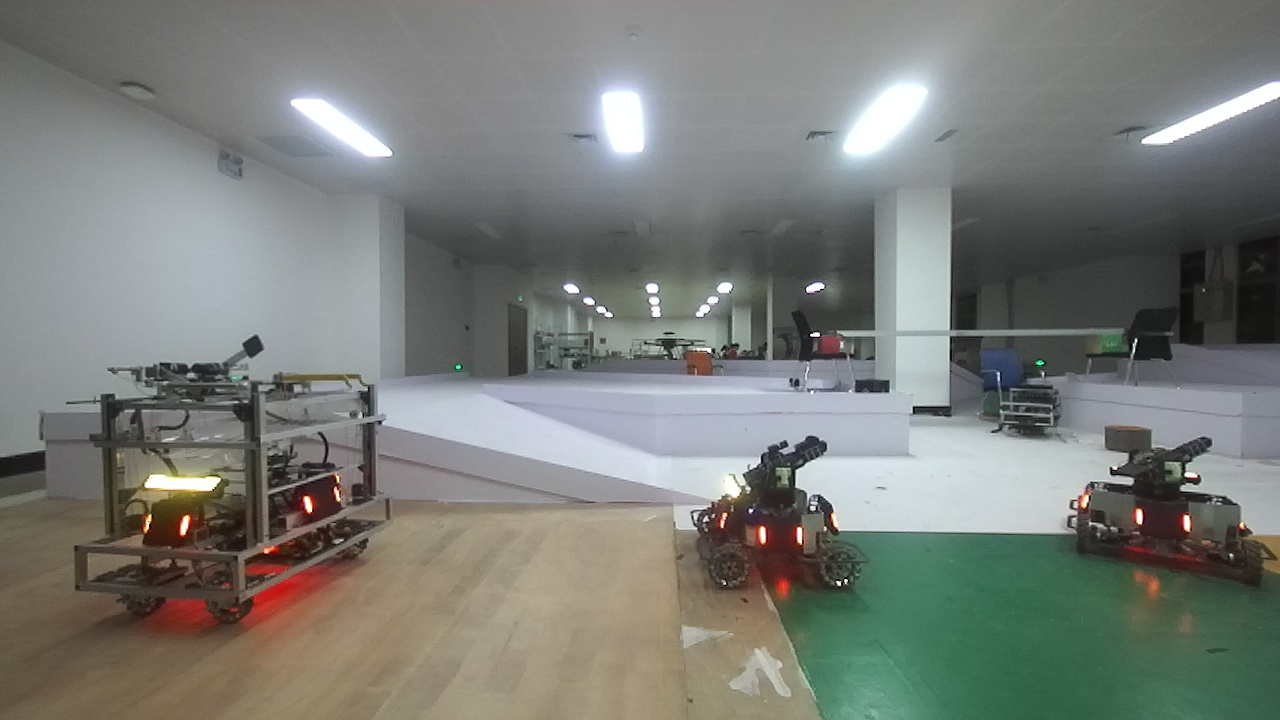car: (70, 335, 416, 645), (1073, 430, 1273, 585), (674, 437, 869, 593)
